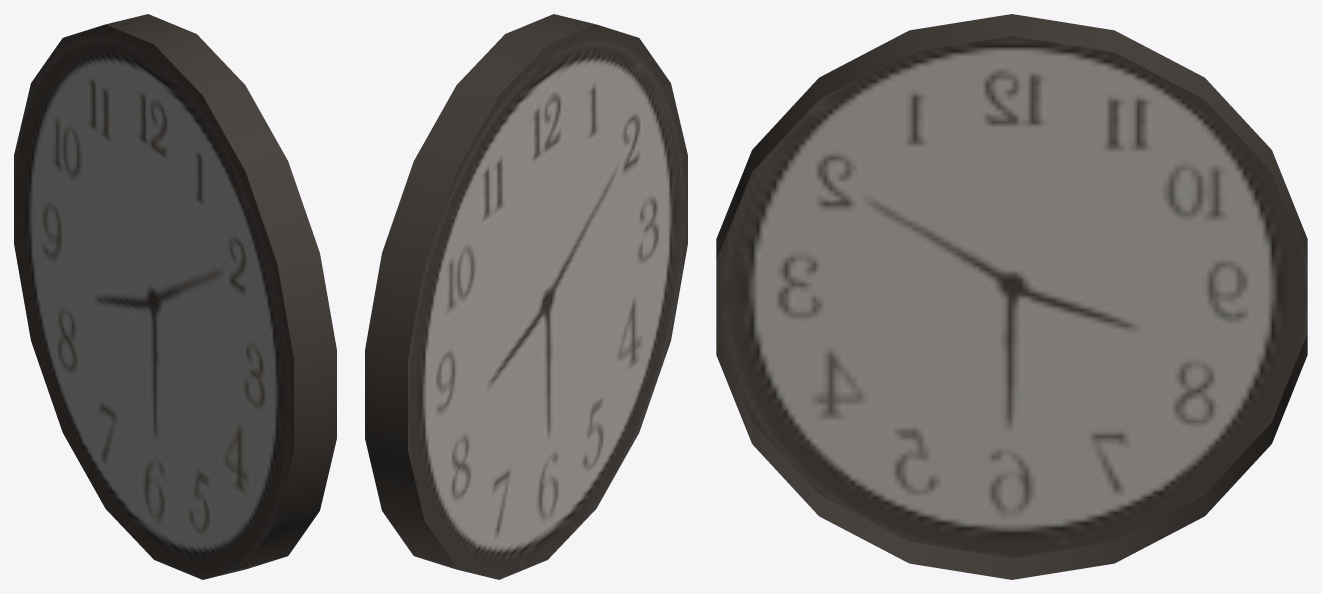
The model's file is NvMingXingJia_02_ZhongBiaoi_01.FBX.
The picture shows the model from 3 angles, left to right: view 1: azimuth 30°, elevation 25°; view 2: azimuth 150°, elevation 25°; view 3: azimuth 270°, elevation 25°; orthographic projection. The views are drawn at different scales.
Parts seen in each view (by area): view 1: pCylinder1; view 2: pCylinder1; view 3: pCylinder1.
Boxes of the visible parts, x1,y1,x2,y2 form: pCylinder1: (14, 14, 336, 579); pCylinder1: (365, 14, 687, 579); pCylinder1: (716, 14, 1307, 579).
Size of the model in its own units: 4.27 by 49.22 by 48.47.
